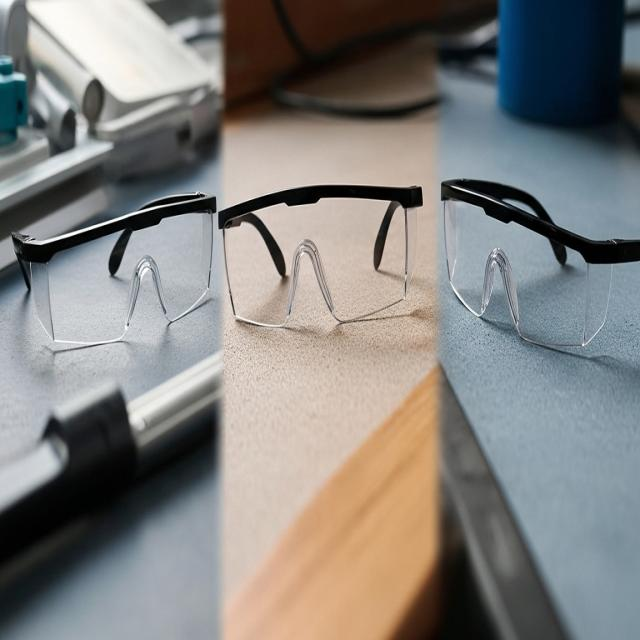oculos-epi: (441, 179, 640, 347), (12, 192, 216, 345), (220, 185, 421, 326)
